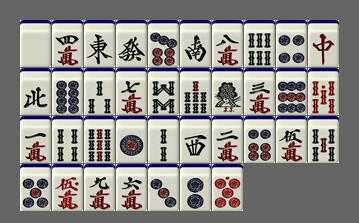0m: (52, 164, 83, 211)
0p: (212, 164, 243, 211)
0s: (308, 68, 339, 115)
1m: (20, 116, 51, 163)
1p: (116, 116, 147, 163)
1s: (212, 68, 243, 115)
1z: (84, 20, 115, 67)
2m: (212, 116, 243, 163)
2p: (180, 164, 211, 211)
2s: (148, 116, 179, 163)
2z: (180, 20, 211, 67)
3m: (244, 68, 275, 115)
3p: (148, 164, 179, 211)
3s: (84, 68, 115, 115)
3z: (180, 116, 211, 163)
4m: (52, 20, 83, 67)
4p: (276, 20, 307, 67)
4s: (52, 116, 83, 163)
4z: (20, 68, 51, 115)
5m: (276, 116, 307, 163)
5p: (20, 164, 51, 211)
5s: (308, 116, 339, 163)
5z: (20, 20, 51, 67)
6m: (116, 164, 147, 211)
6p: (244, 116, 275, 163)
6s: (244, 20, 275, 67)
6z: (116, 20, 147, 67)
7m: (116, 68, 147, 115)
7p: (148, 20, 179, 67)
7s: (180, 68, 211, 115)
7z: (308, 20, 339, 67)
8m: (212, 20, 243, 67)
8p: (52, 68, 83, 115)
8s: (148, 68, 179, 115)
9m: (84, 164, 115, 211)
9p: (276, 68, 307, 115)
9s: (84, 116, 115, 163)
